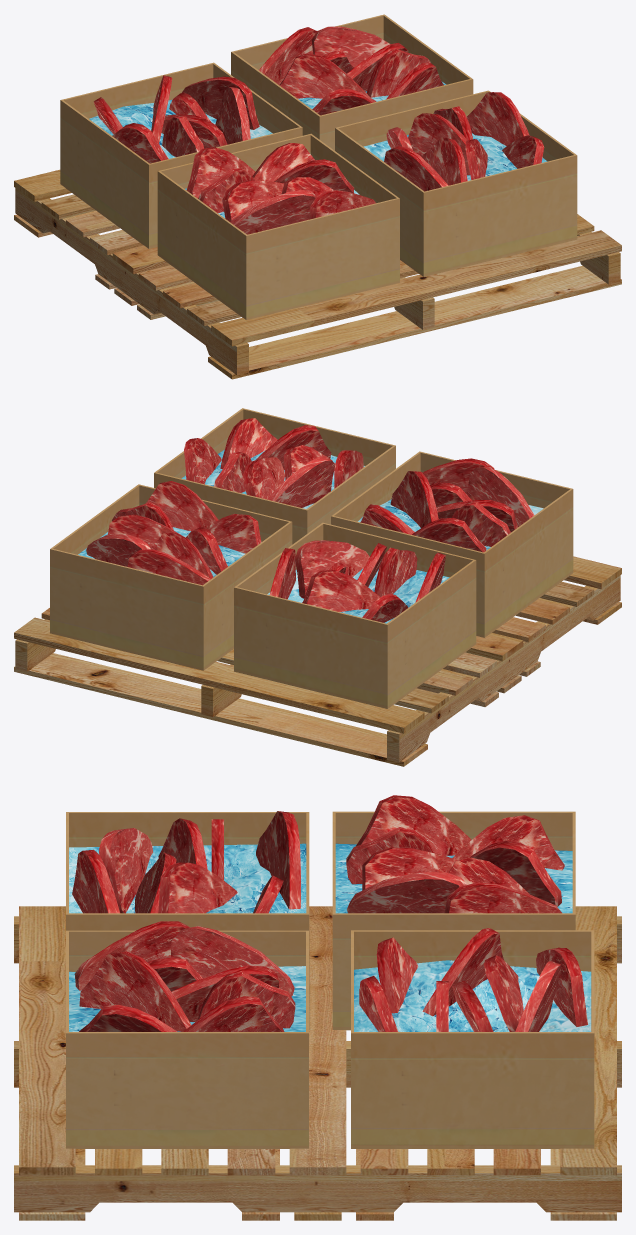
File: Cardboard_boxGroup03.FBX
The picture shows the model from 3 angles, top to bottom: view 1: azimuth 30°, elevation 25°; view 2: azimuth 150°, elevation 25°; view 3: azimuth 270°, elevation 25°; orthographic projection. The views are drawn at different scales.
Visible parts, largest first — view 1: Cardboard_boxGroup03, Cardboard_boxG03; view 2: Cardboard_boxGroup03, Cardboard_boxG03; view 3: Cardboard_boxGroup03, Cardboard_boxG03.
Boxes of the visible parts, x1,y1,x2,y2 form: Cardboard_boxGroup03: (60,14,577,319); Cardboard_boxG03: (14,169,621,379); Cardboard_boxGroup03: (50,408,573,708); Cardboard_boxG03: (14,556,621,766); Cardboard_boxGroup03: (66,795,594,1148); Cardboard_boxG03: (14,906,621,1220).
Bounding box in the file's own units: 2.16 × 0.7514 × 2.12.
